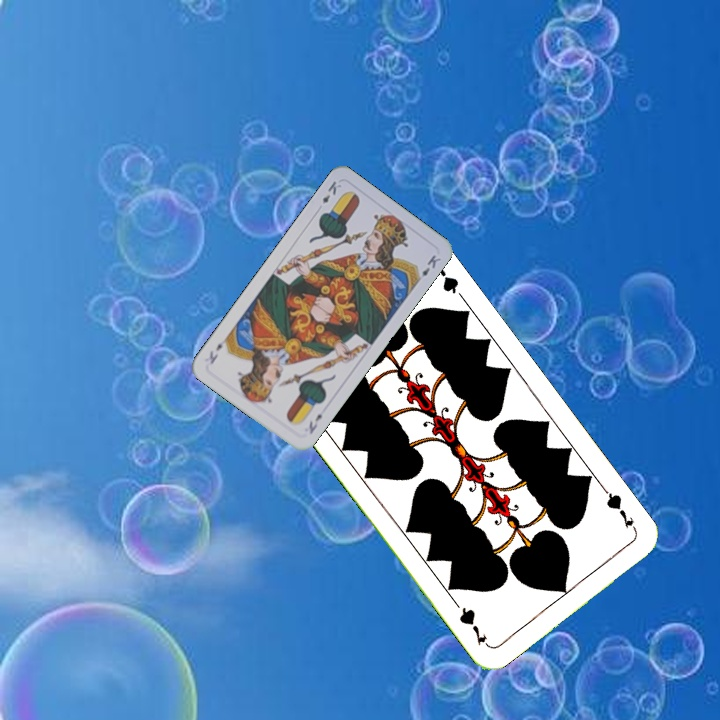EK: (318, 177, 344, 207), (305, 409, 325, 437)
G7: (599, 485, 640, 536)
